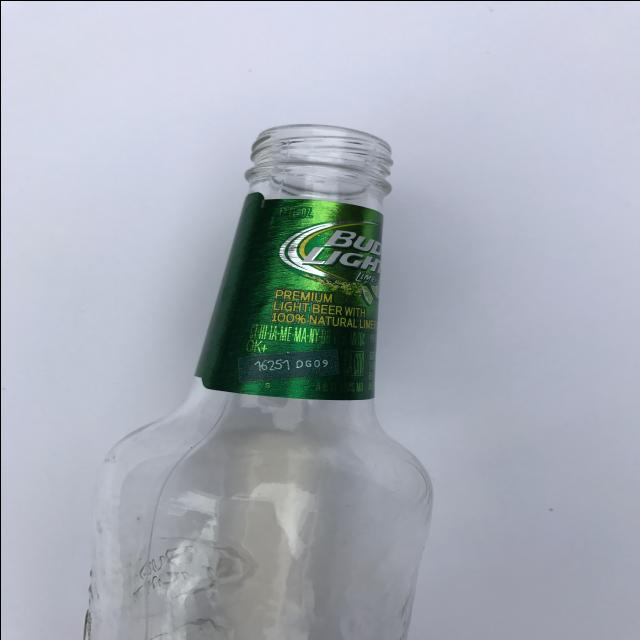glass: (84, 127, 433, 640)
